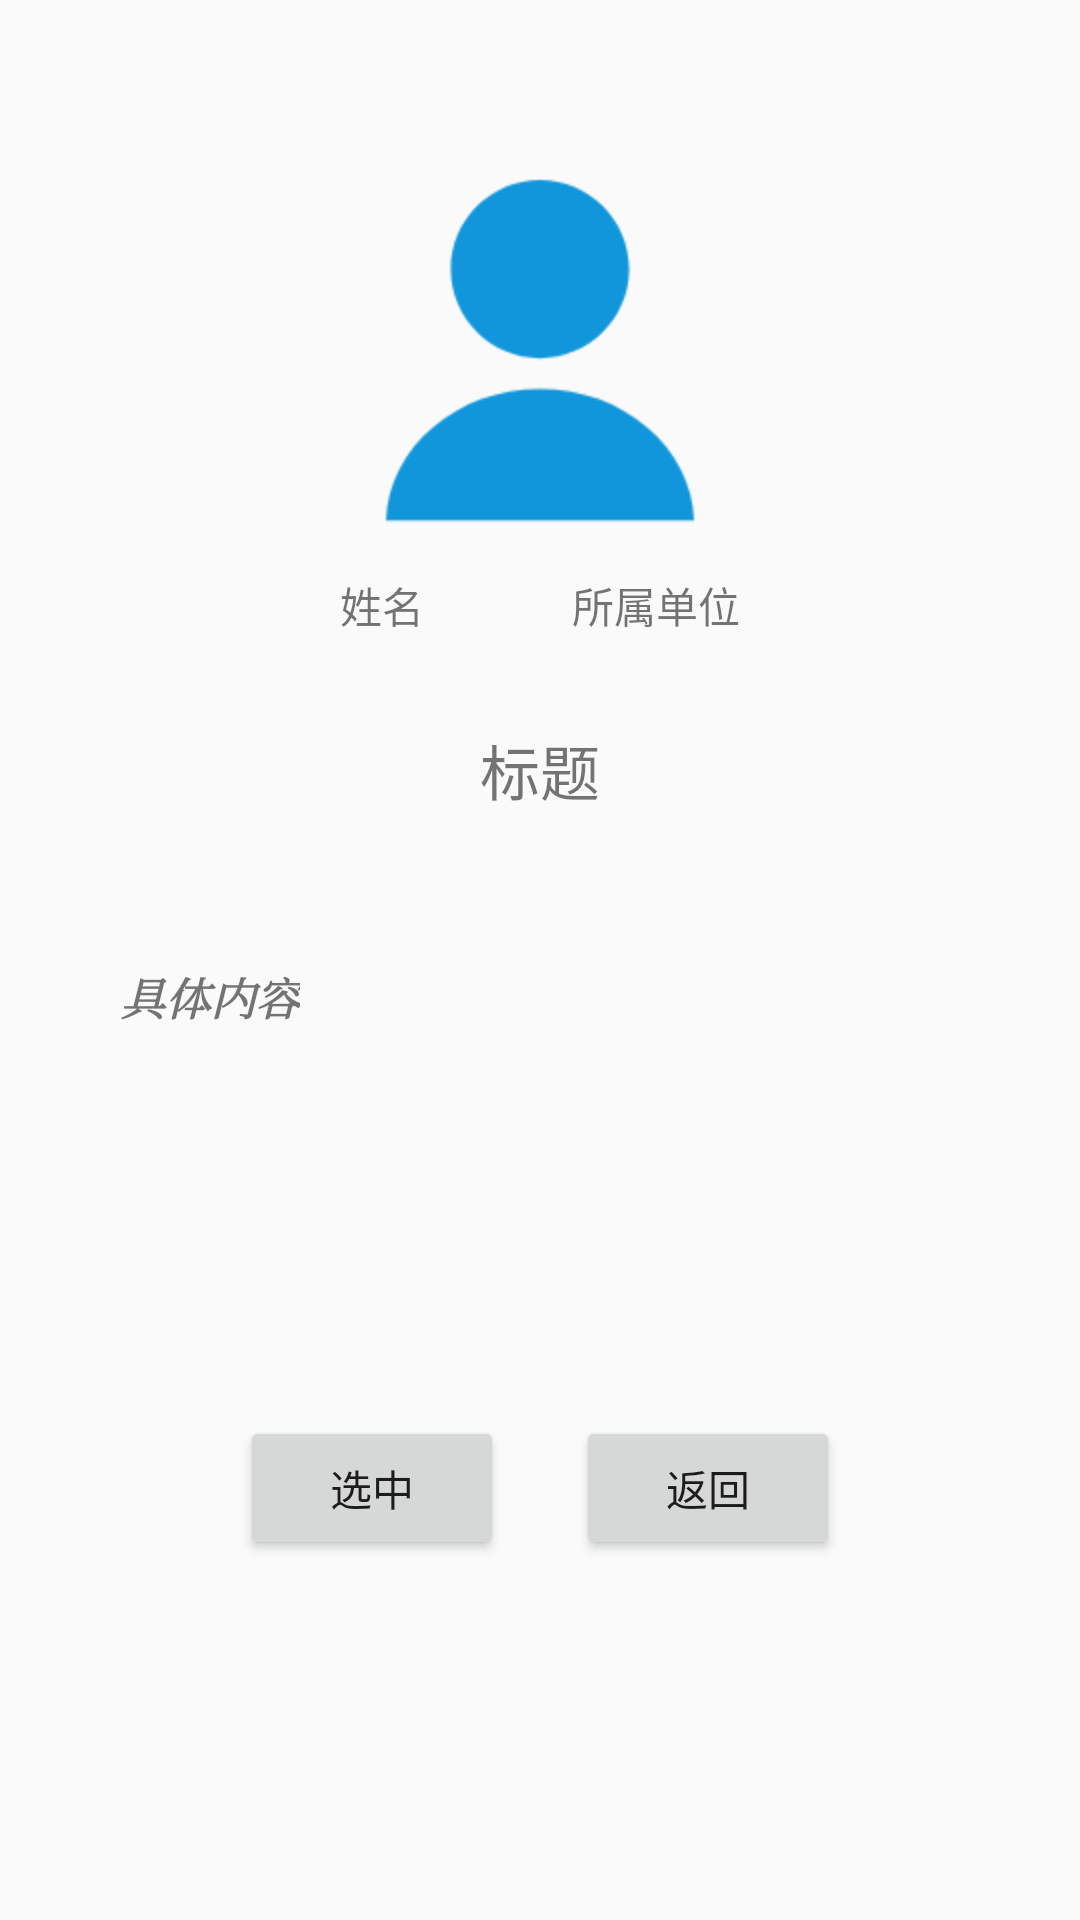

Where icons sit on this 1080 x 1920 app screen, as {"left": x1, "top": y1, "right": x2, "bottom": y2}:
user: {"left": 385, "top": 179, "right": 695, "bottom": 522}
